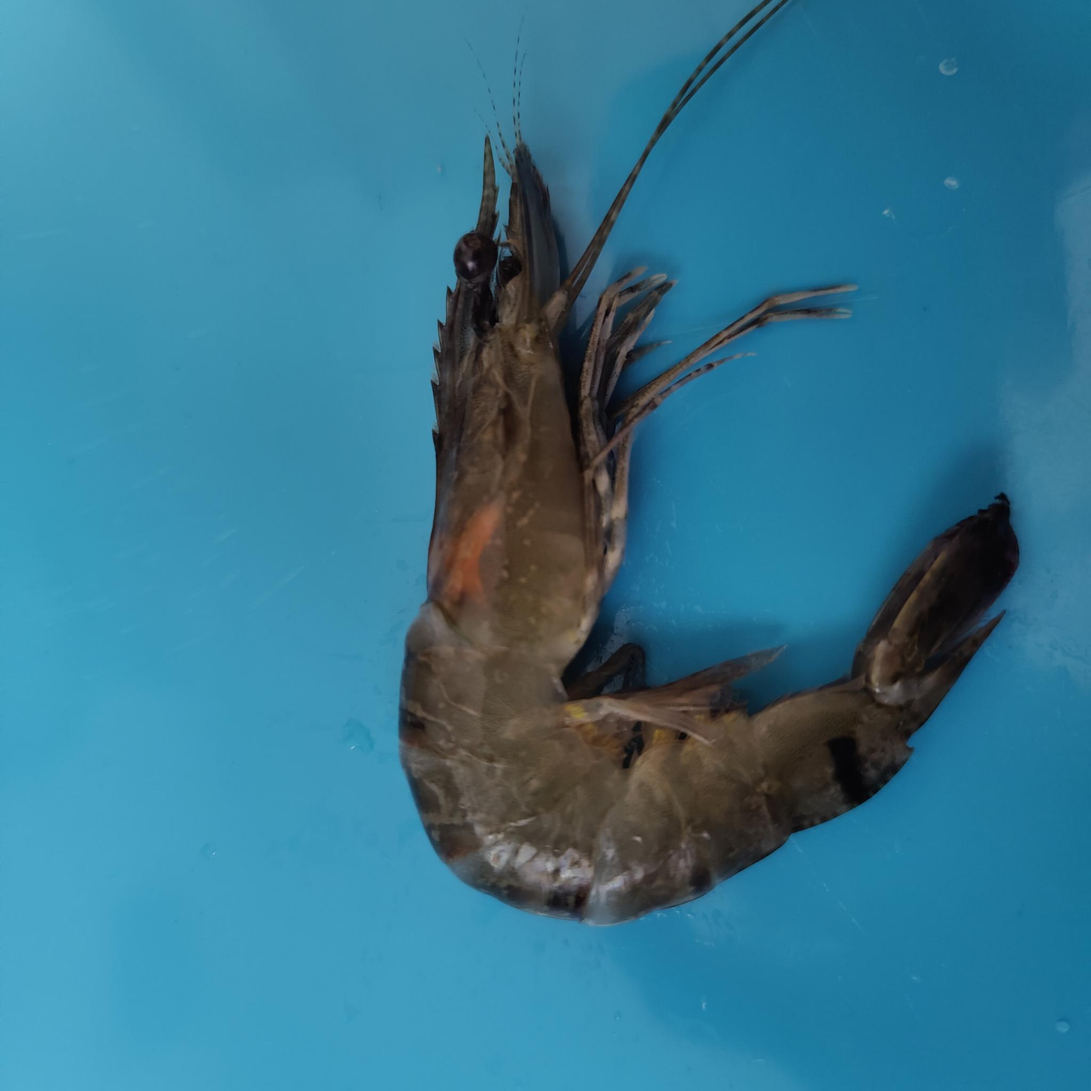whitespot: (461, 409, 572, 663), (424, 673, 490, 764)
